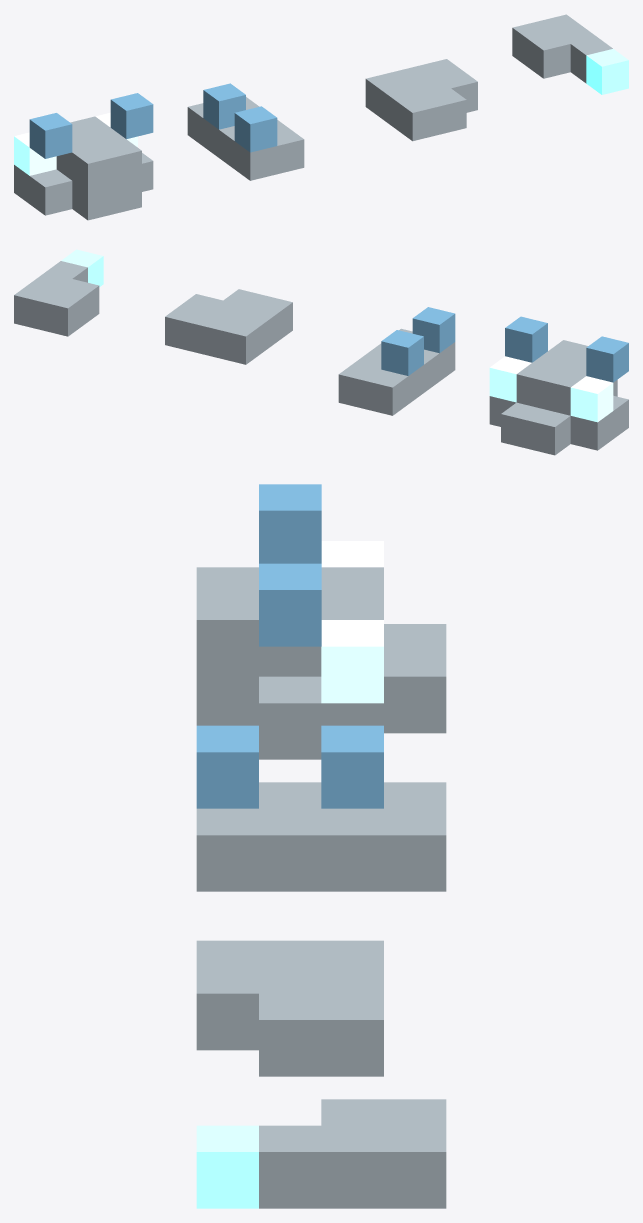
Rendered from dragon_kit.glb.
3 renders of one model, top to bottom at view 1: azimuth 30°, elevation 25°; view 2: azimuth 150°, elevation 25°; view 3: azimuth 270°, elevation 25°, orthographic. The views are drawn at different scales.
Visible parts, largest first — view 1: head, straight, turn, tail; view 2: head, straight, turn, tail; view 3: head, straight, tail, turn.
Part boxes in pixels (x1,y1,x2,y2): head: (14,93,153,220); straight: (187,83,304,180); turn: (365,59,477,141); tail: (512,14,628,94); head: (489,316,628,455); straight: (338,307,455,415); turn: (165,289,292,364); tail: (14,249,103,336); head: (196,484,446,759); straight: (196,725,446,891); tail: (196,1099,446,1208); turn: (196,940,383,1076).
Size of the model in its own units: 5.25 by 0.75 by 1.
